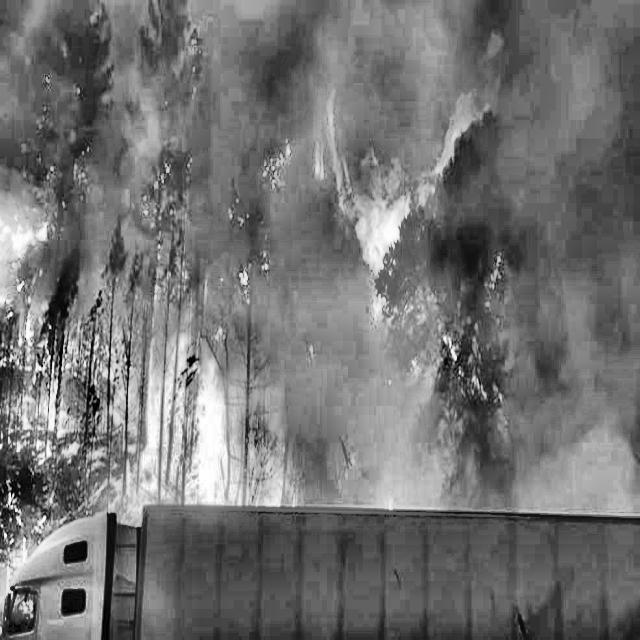fire: (0, 176, 248, 541), (296, 114, 550, 459)
